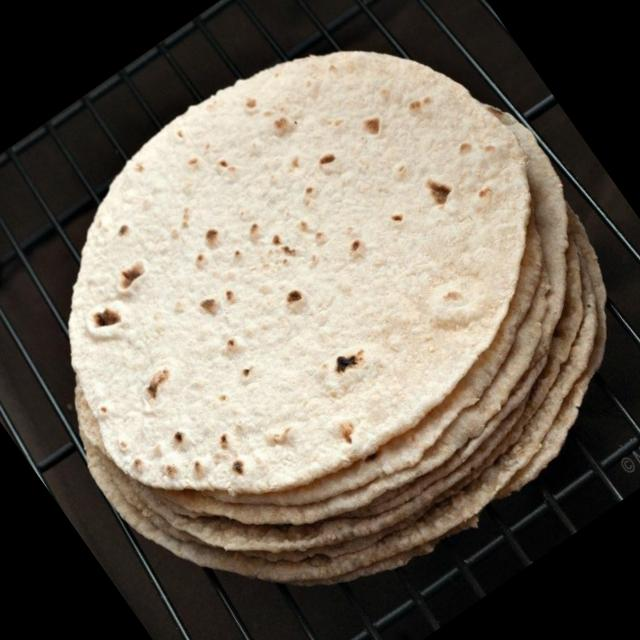roti: (65, 34, 617, 592)
